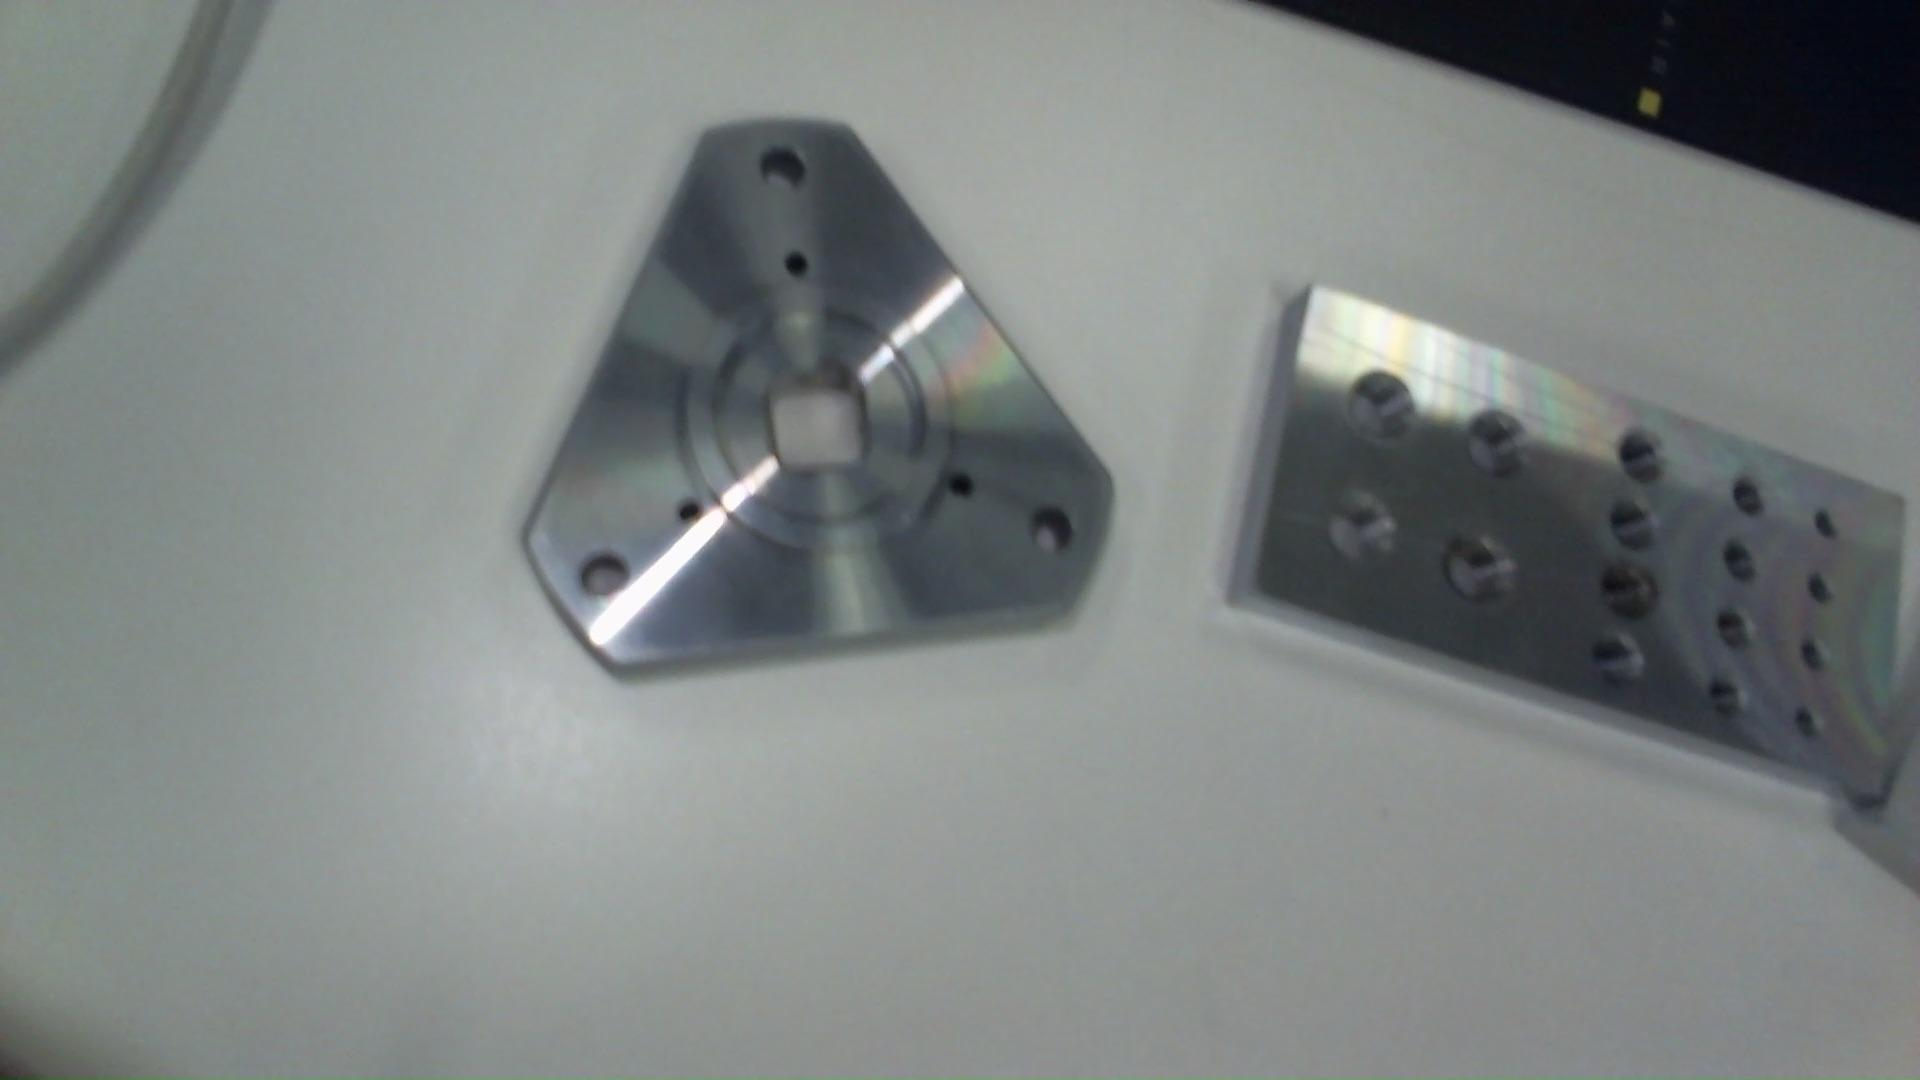hole: (1312, 495, 1404, 587), (1439, 527, 1527, 620), (1338, 360, 1425, 454), (1460, 396, 1552, 483), (1592, 495, 1677, 553), (1606, 425, 1684, 487), (1585, 624, 1659, 688), (571, 546, 640, 613), (1593, 559, 1667, 617), (1017, 500, 1083, 563), (754, 145, 815, 208), (1693, 665, 1756, 723), (1722, 472, 1785, 524), (1705, 607, 1764, 657), (1785, 690, 1836, 746), (1811, 493, 1862, 543), (1803, 560, 1847, 617), (1712, 531, 1760, 580), (777, 237, 827, 285), (662, 495, 713, 537), (1793, 637, 1841, 680), (944, 467, 982, 506)
